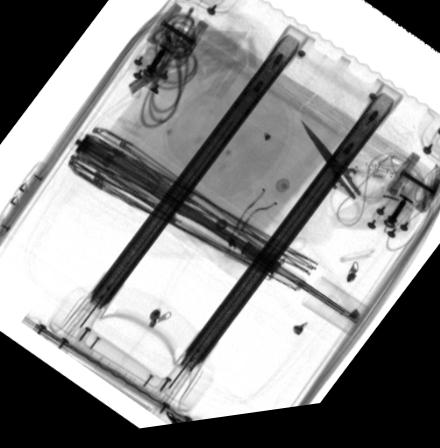Scissors: (298, 126, 389, 238)
